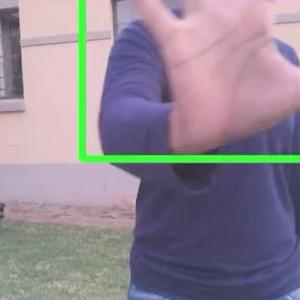follow_hand: (124, 0, 299, 162)
